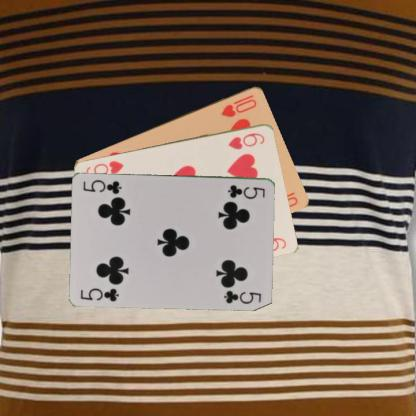10h: (218, 92, 258, 118)
5c: (226, 182, 266, 200), (78, 285, 120, 302)
6h: (226, 130, 266, 151)
